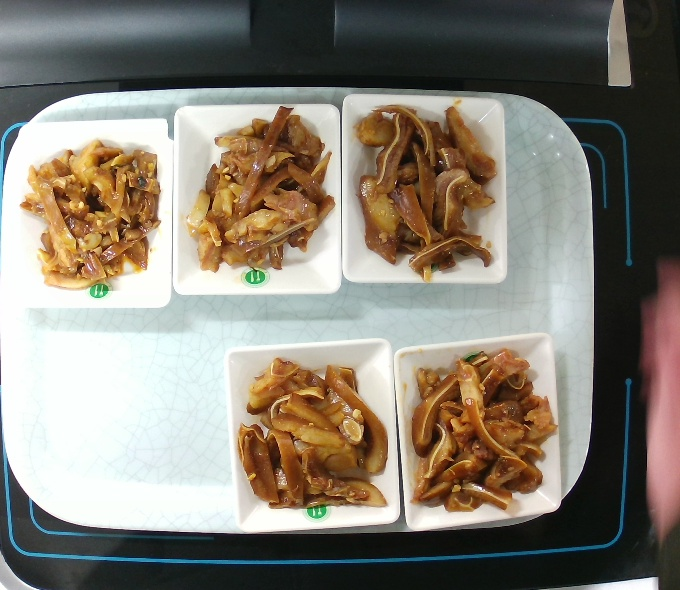wcq-ZhuErDuo: (349, 82, 506, 283), (236, 345, 399, 523), (406, 340, 564, 517), (182, 97, 339, 275), (18, 128, 165, 296)
